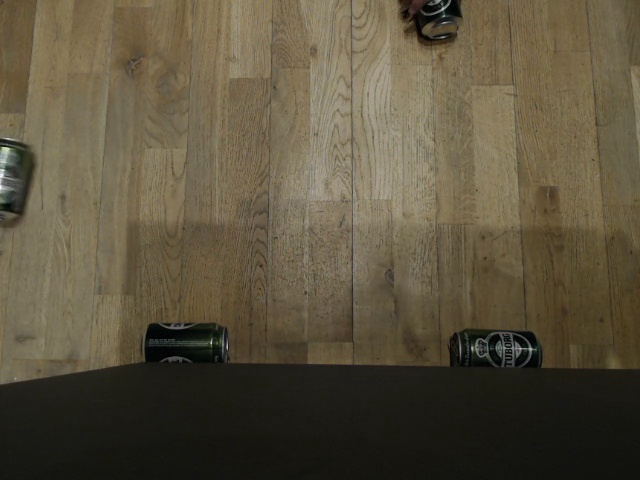beer: (0, 137, 32, 222), (409, 2, 466, 42)
